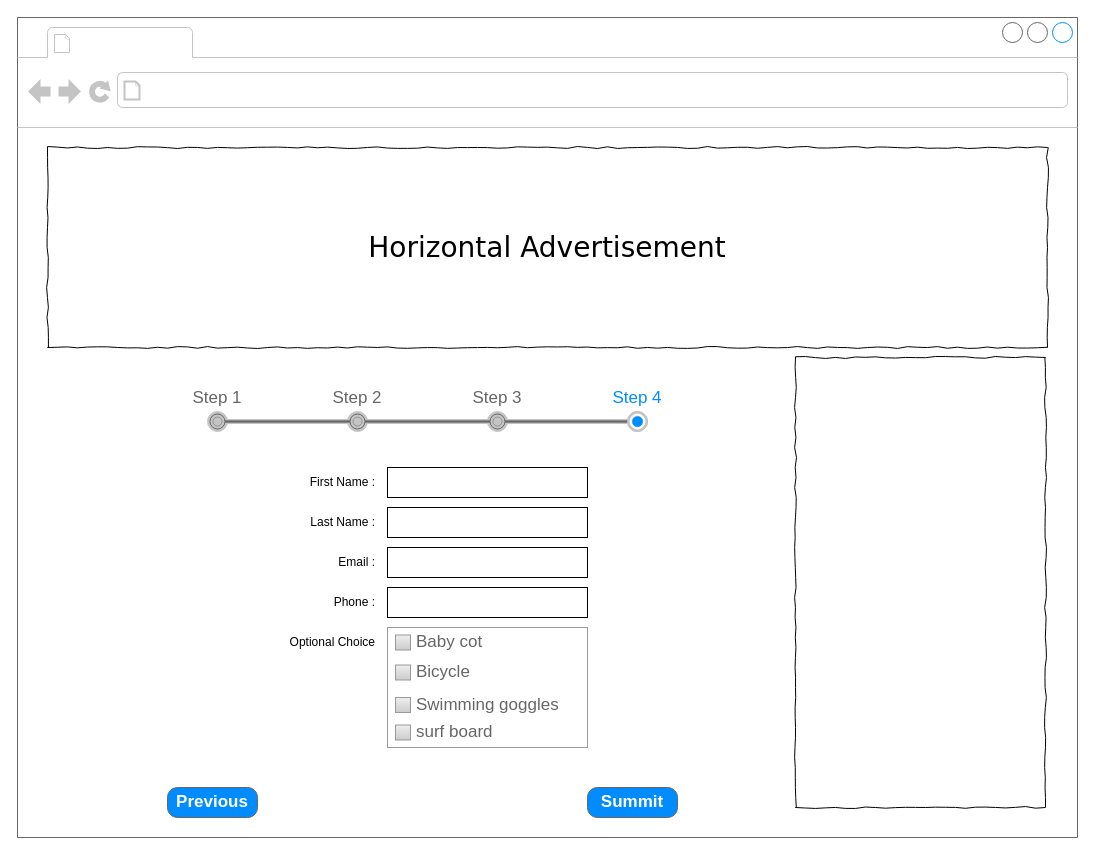
The diagram is 1095 pixels wide and 855 high, and some of its shapes have lost their labels. The centre of each missing label's shape, as x and y in pixels:
https://www.piha-lodge.co.nz: pixel 272 90
Piha-lodge: pixel 132 42
Vertical Advertisement: pixel 920 582
